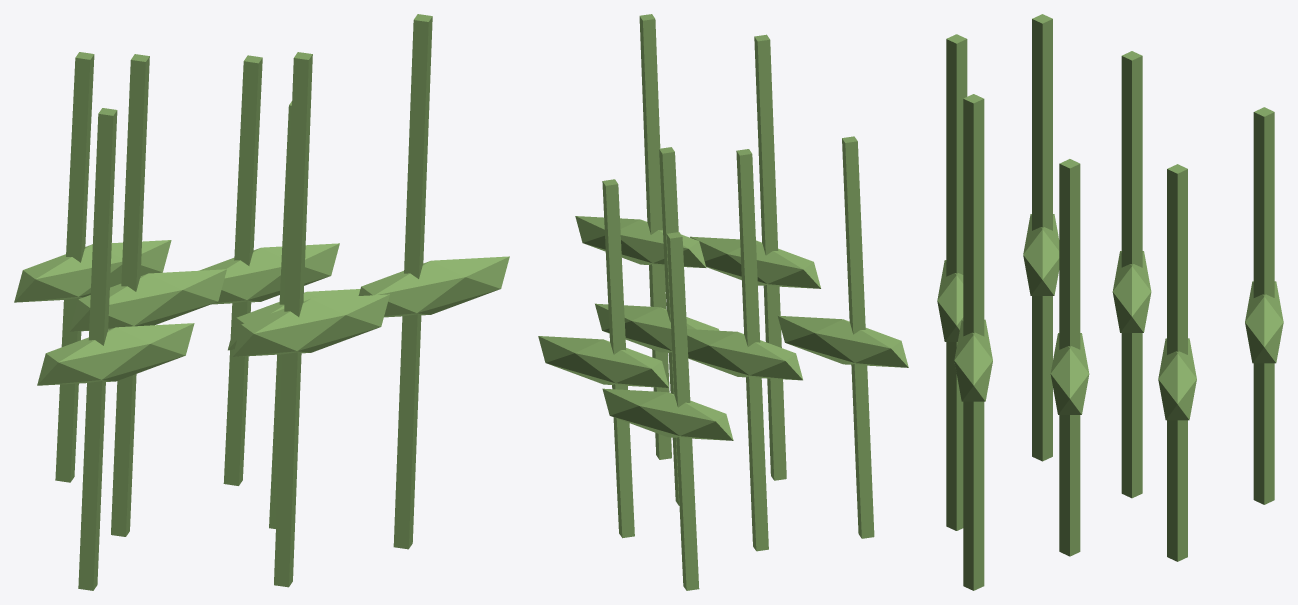
The model's file is crop_rye_growing.glb.
3 renders of one model, left to right at view 1: azimuth 30°, elevation 25°; view 2: azimuth 150°, elevation 25°; view 3: azimuth 270°, elevation 25°, orthographic. The views are drawn at different scales.
Parts seen in each view (by area): view 1: crop_rye_growing; view 2: crop_rye_growing; view 3: crop_rye_growing.
Boxes of the visible parts, x1,y1,x2,y2 form: crop_rye_growing: (14,14,509,590); crop_rye_growing: (538,14,908,590); crop_rye_growing: (937,14,1283,590).
Bounding box in the file's own units: 0.5479 × 0.6275 × 0.3959.
